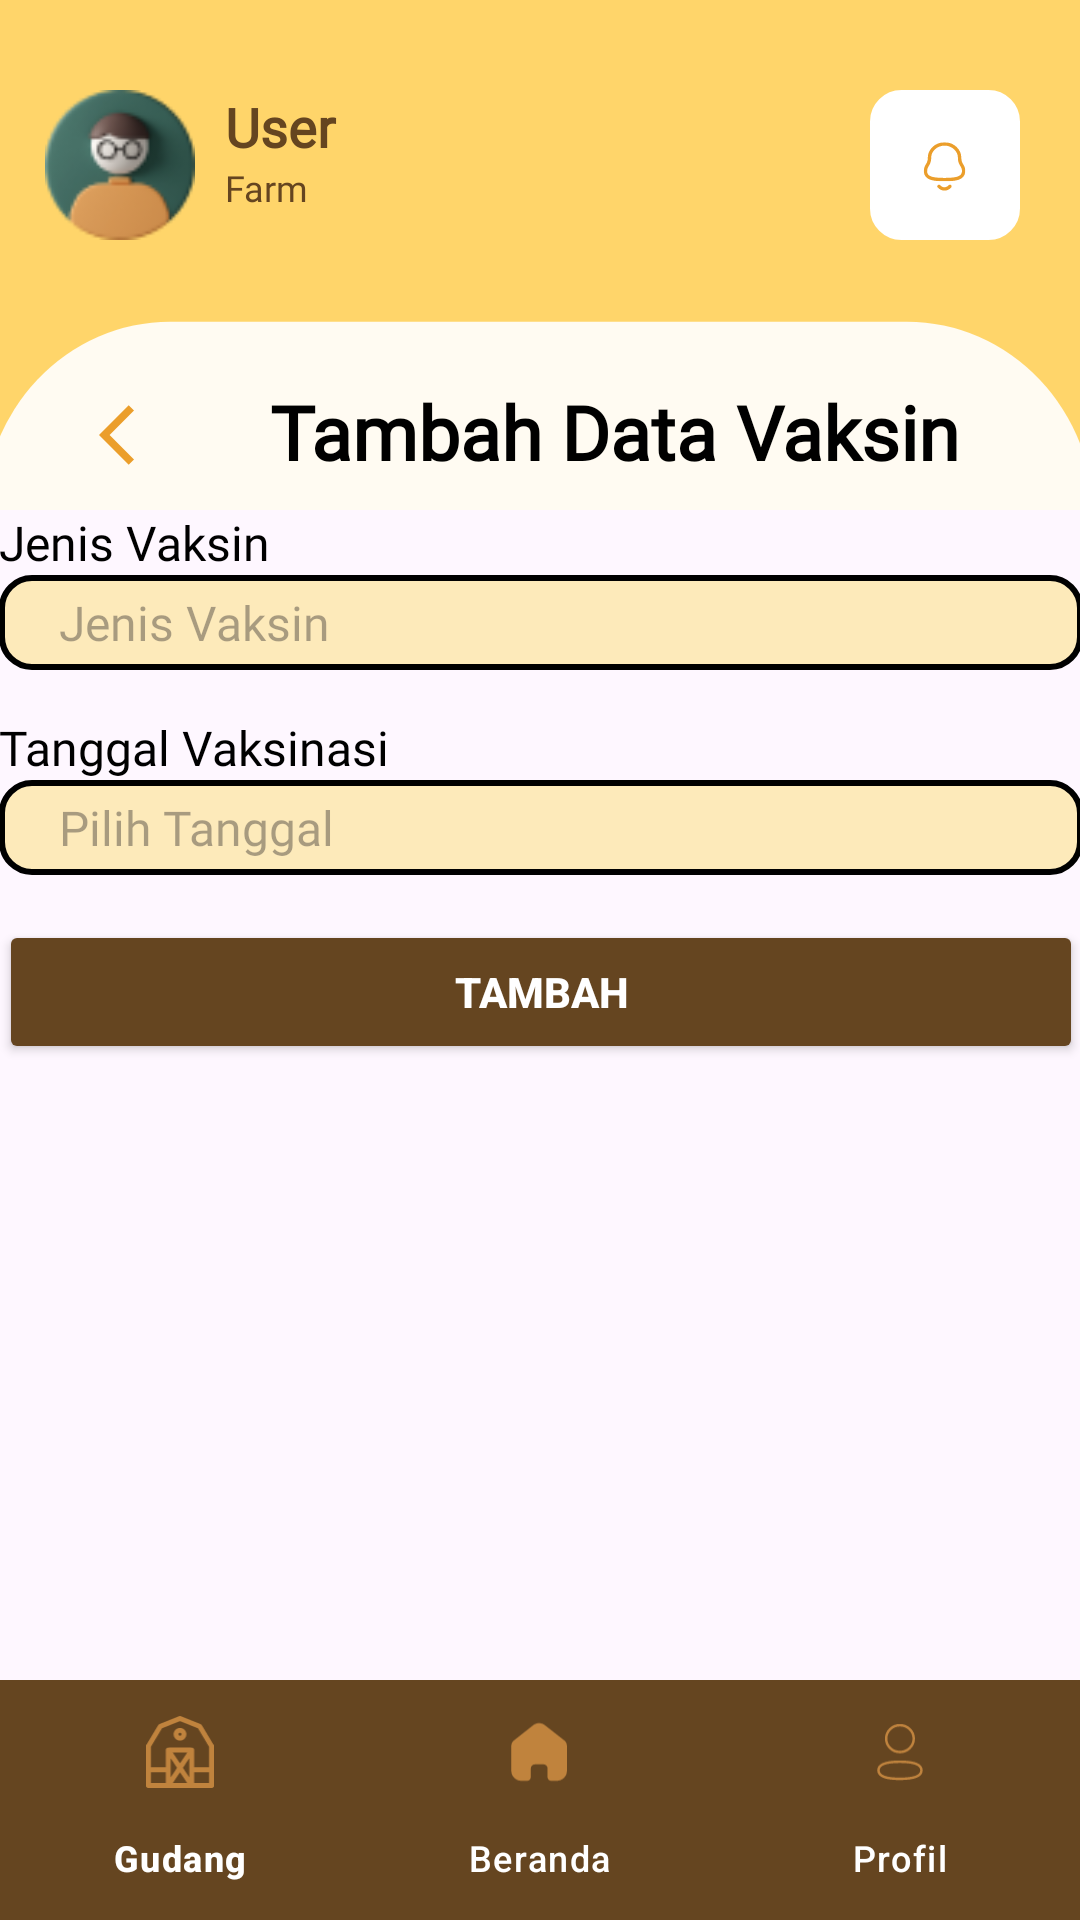

Named icons in this screenshot (1080w x 1920h) and their bounding boxes, (x1, y1, x2, y2):
bell: (870, 90, 1020, 240)
profile pic: (45, 90, 195, 240)
